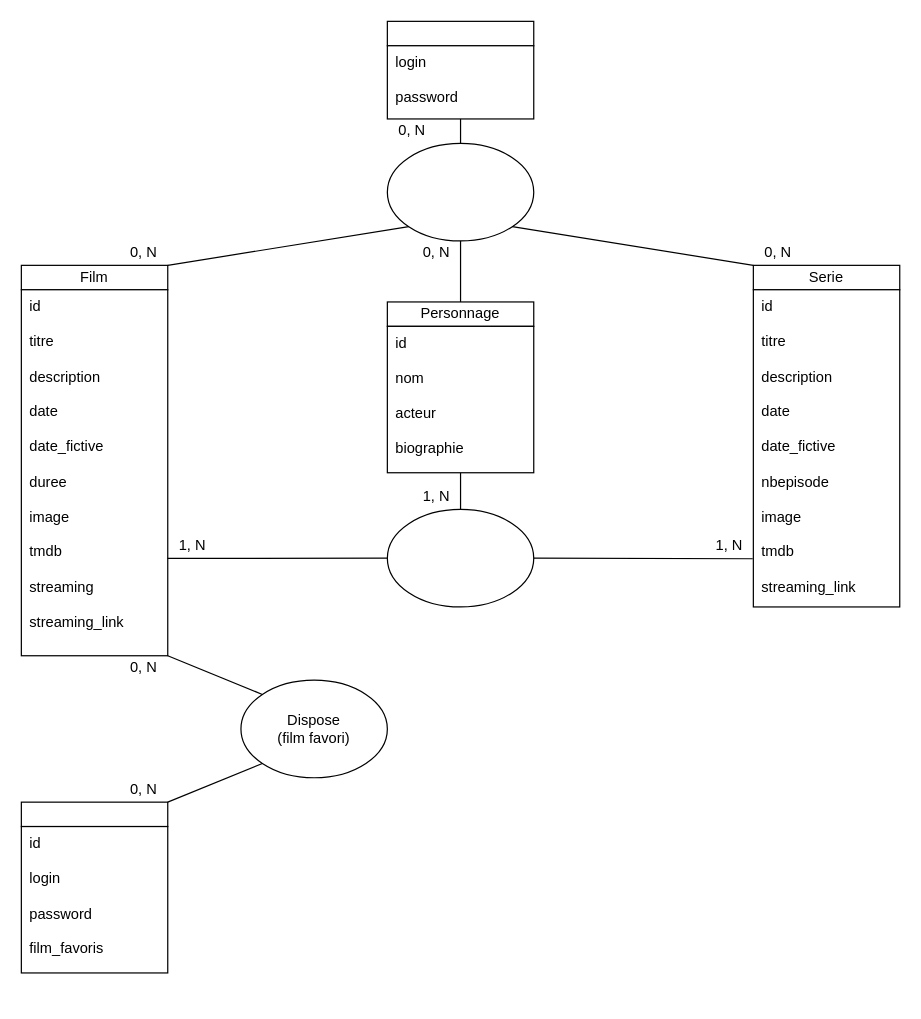
Image size: 921x1019. Some labels were removed from this diagram. Each missing label, with the box of its shape:
Admin: (386, 20, 534, 46)
Ajoute: (386, 142, 534, 241)
Est Présent dans: (386, 508, 534, 607)
Utilisateur: (20, 801, 168, 827)
